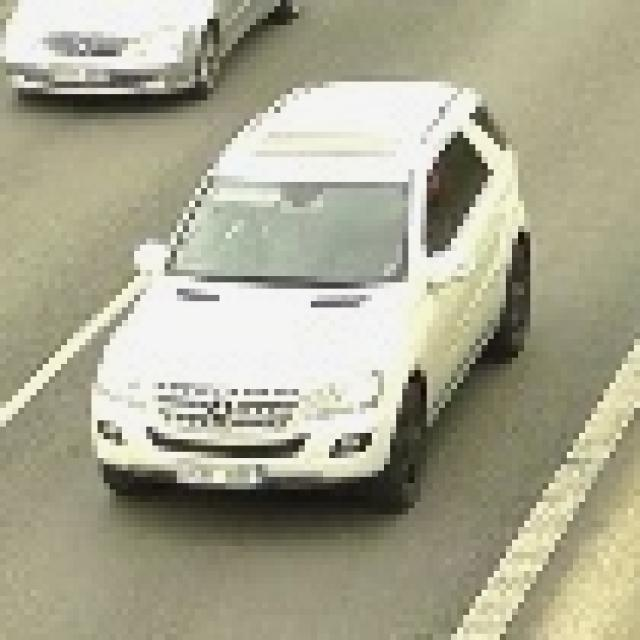SUV: (102, 93, 500, 495), (4, 0, 302, 97)
